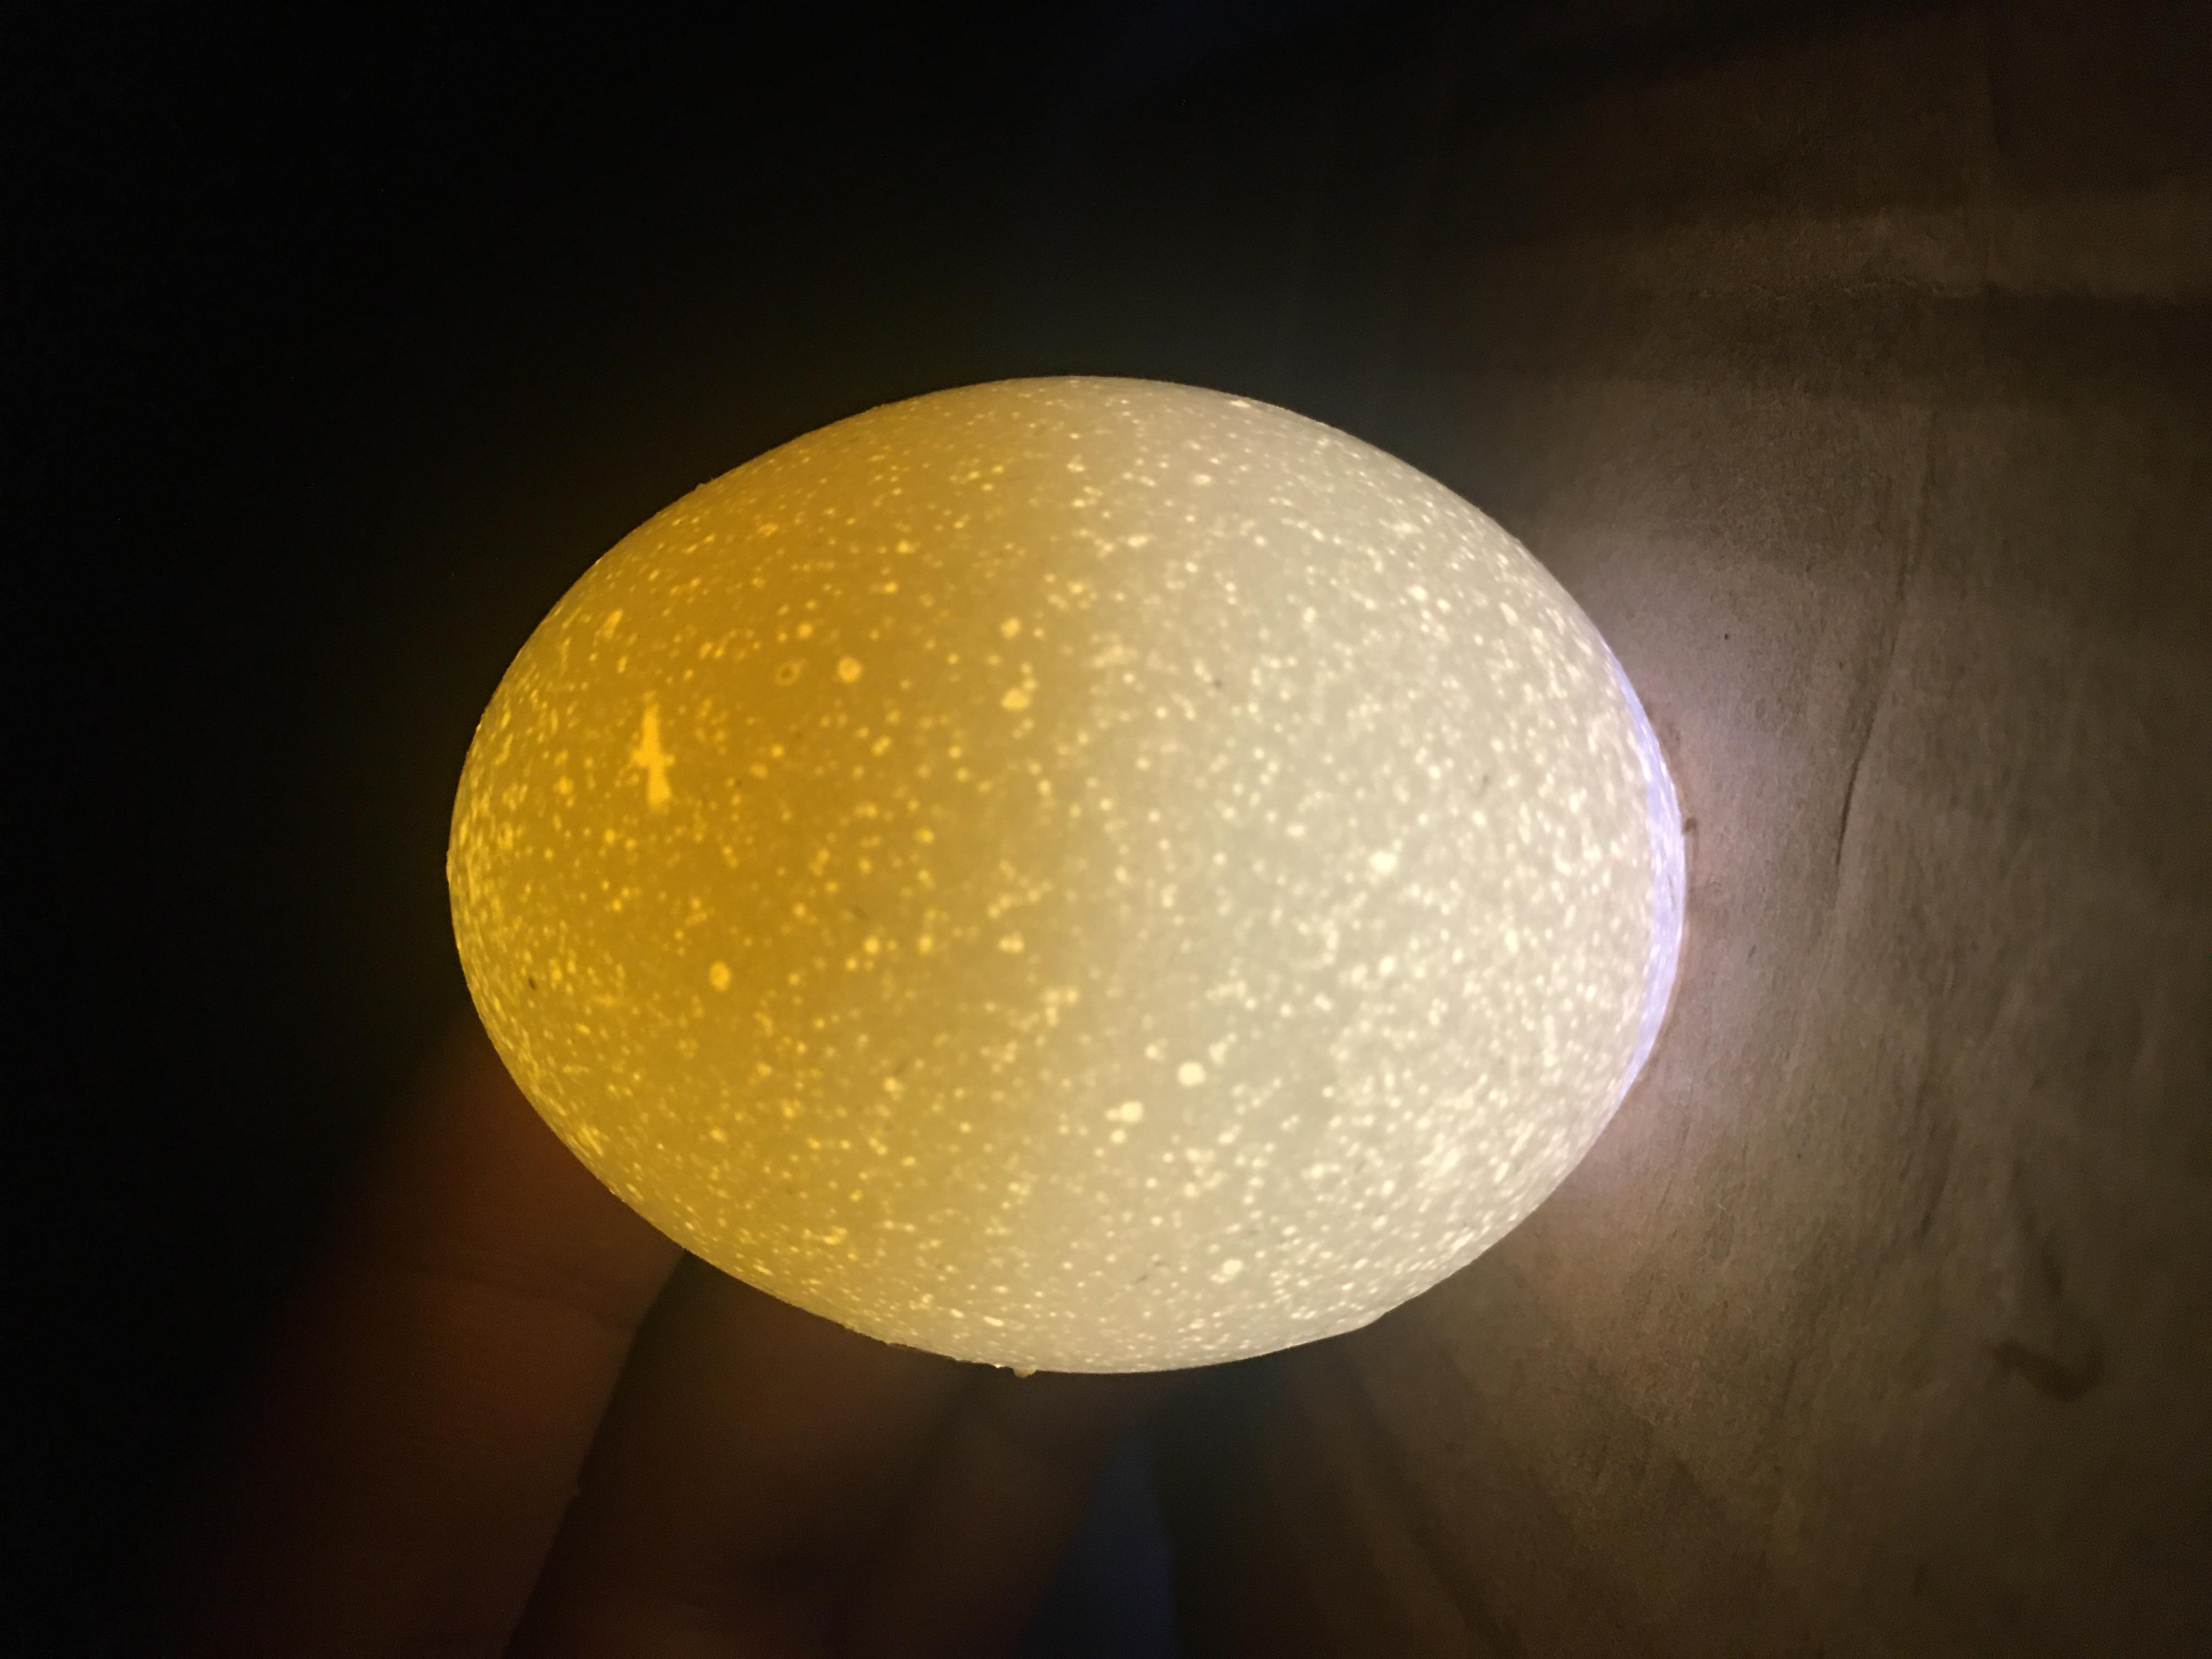A - Good: (359, 321, 1716, 1279)
